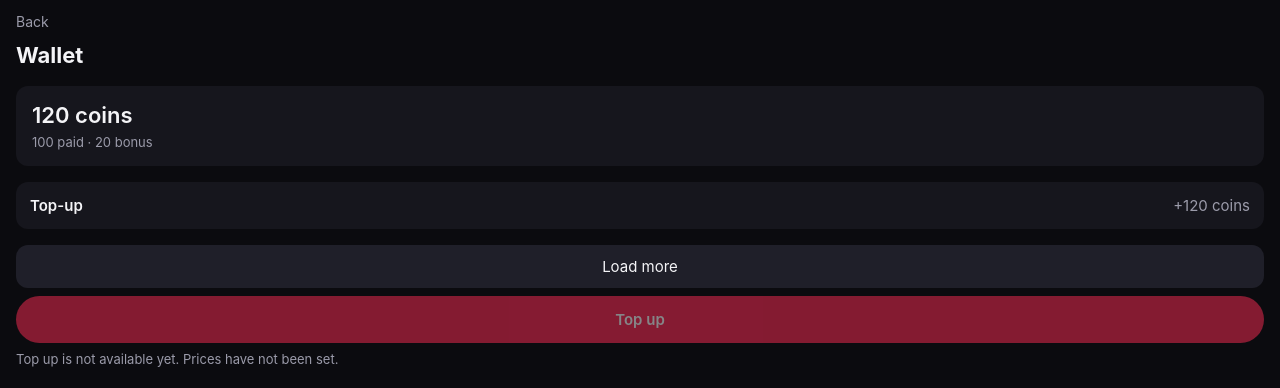
Test case: wallet paging › appends the next page without replacing the rows already on screen
Expected: the number of list items with test id "wallet-ledger-row" is 1, [16,182,1264,228]
What coordinates should you click on to do the following:
click the button with test id "load-more-wallet"
I would click on:
 (640, 266)
Its box is [16,244,1264,288].
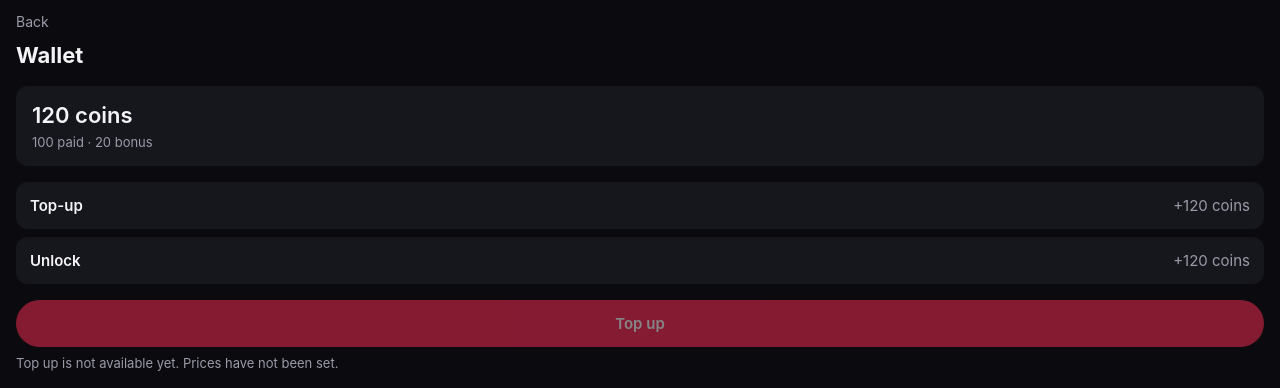
Now the number of list items with test id "wallet-ledger-row" is 2, box [16,182,1264,228]; [16,236,1264,284]
